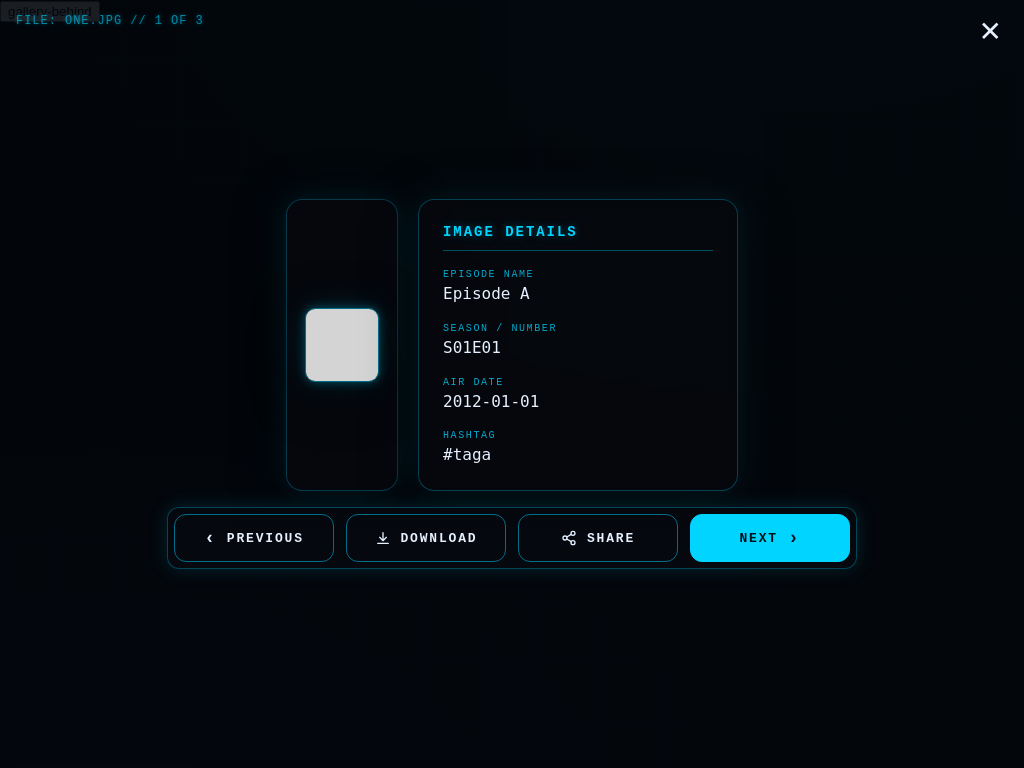
Test: LightboxContainer — rendering › resolves the details campaign per image with activeCampaign fallback
Check: the element with class "lightbox-details" shows "Episode A", box [443,284,530,303]
Click the button with aria-label "Next image" at (770, 538), box [690,514,850,562]
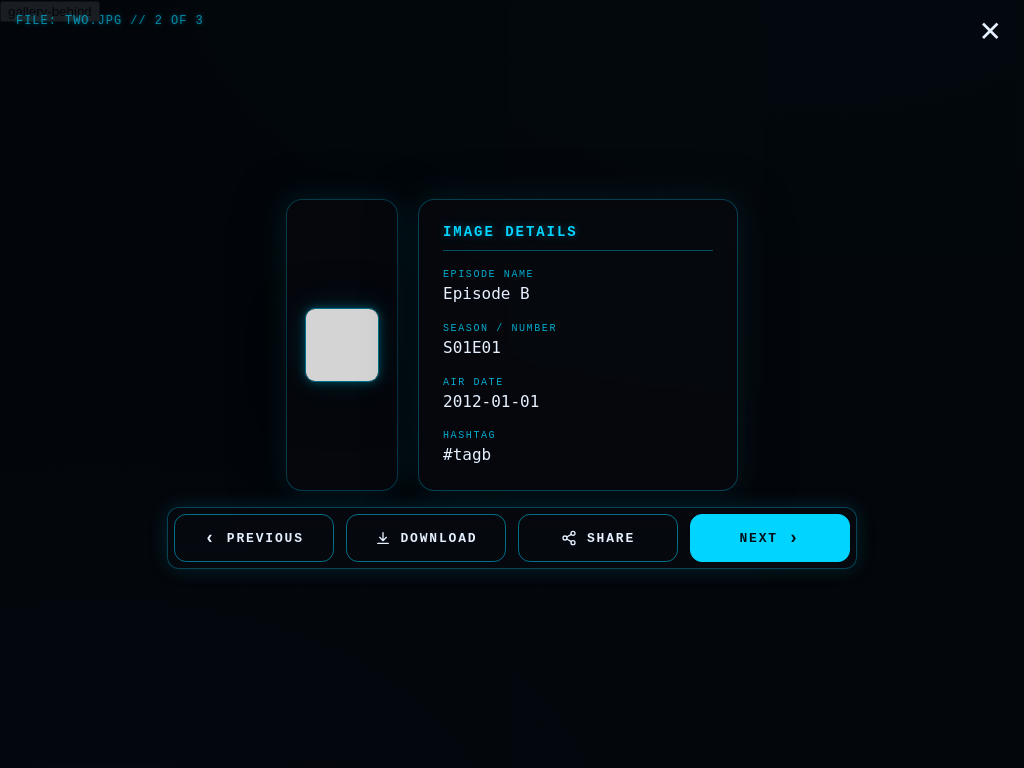
Check: the element with class "lightbox-details" shows "Episode B", box [443,284,530,303]
Note: image 3 has no campaignId → activeCampaign
Click the button with aria-label "Next image" at (770, 538), box [690,514,850,562]
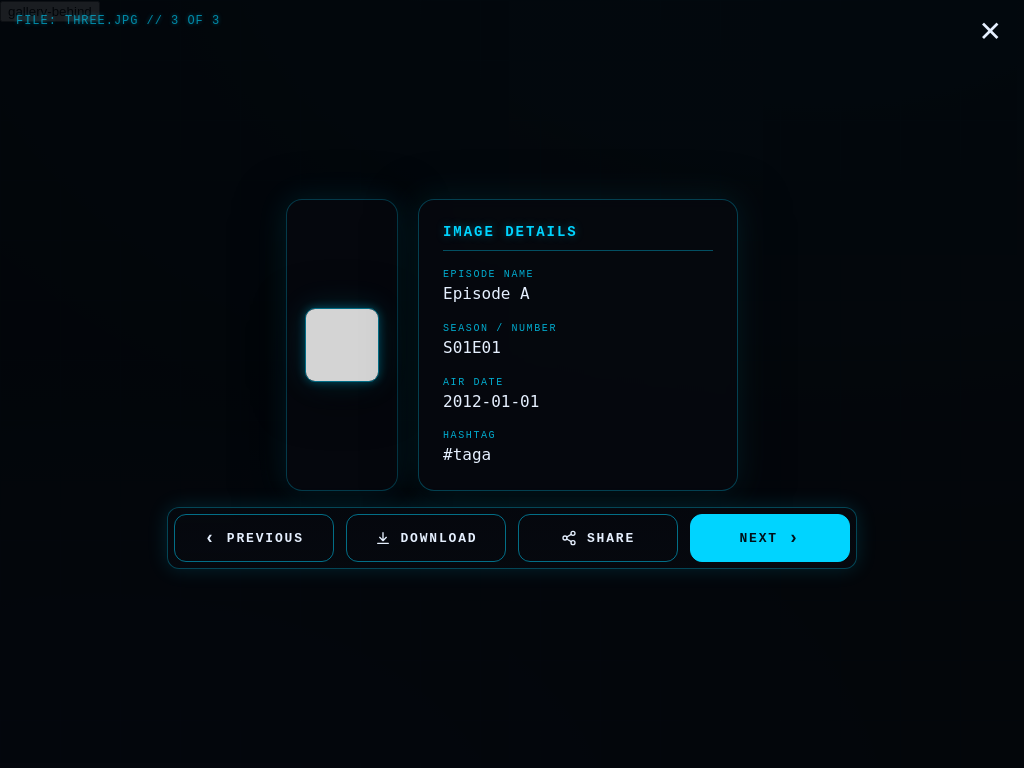
Check: the element with class "lightbox-details" shows "Episode A", box [443,284,530,303]
